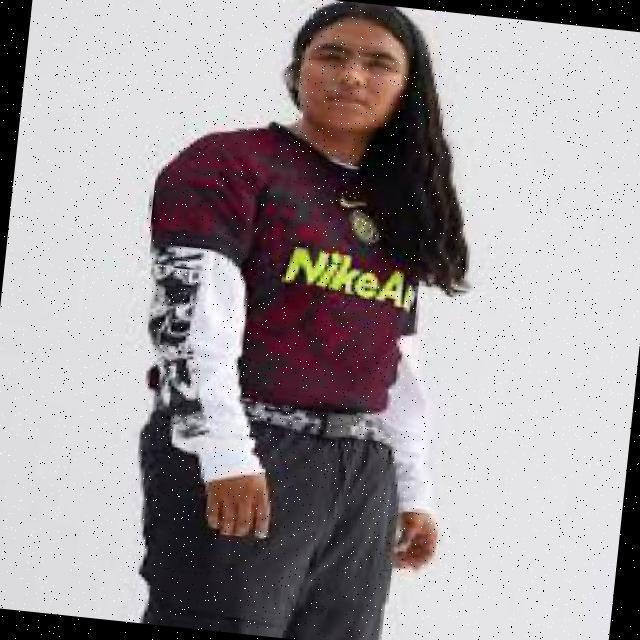Nike: (331, 189, 365, 208)
